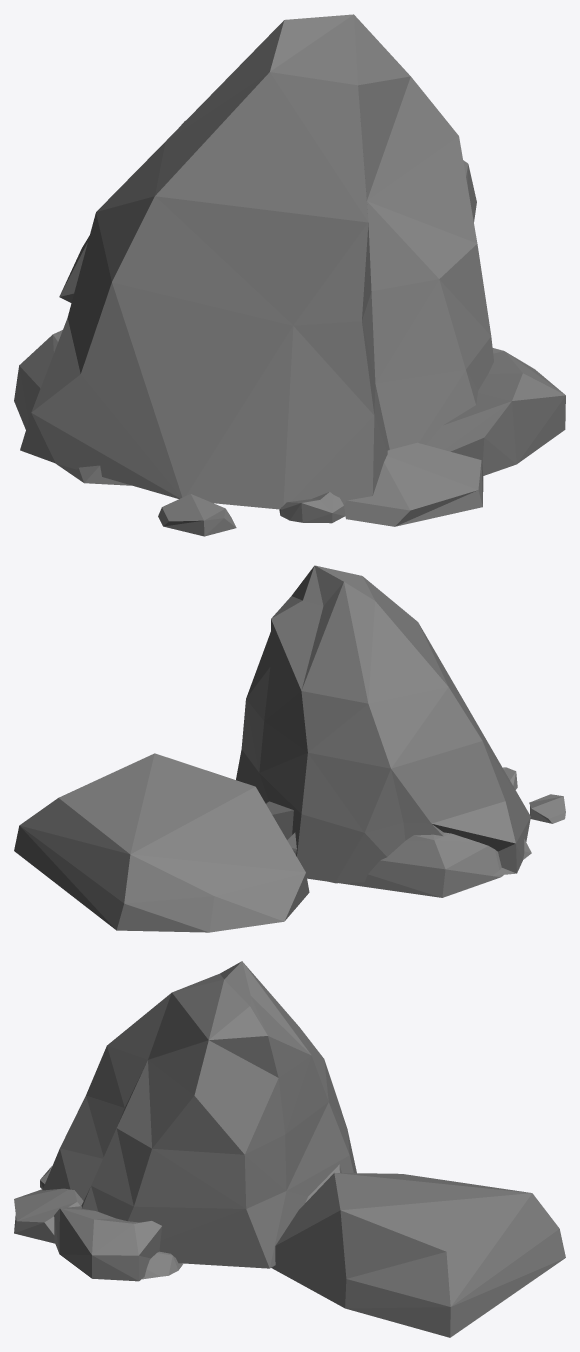
The model's file is stones.glb.
3 renders of one model, top to bottom at view 1: azimuth 30°, elevation 25°; view 2: azimuth 150°, elevation 25°; view 3: azimuth 270°, elevation 25°, orthographic. The views are drawn at different scales.
Parts seen in each view (by area): view 1: stone_2, stones_1, stone_3; view 2: stone_2, stones_1, stone_3; view 3: stone_2, stones_1, stone_3.
Part boxes in pixels (bbox=[...]): stone_2: bbox=[20, 14, 493, 509]; stones_1: bbox=[14, 120, 483, 536]; stone_3: bbox=[279, 348, 565, 523]; stone_2: bbox=[236, 565, 530, 883]; stones_1: bbox=[14, 753, 565, 932]; stone_3: bbox=[265, 767, 517, 839]; stone_2: bbox=[42, 961, 356, 1268]; stones_1: bbox=[14, 1172, 565, 1337]; stone_3: bbox=[40, 1164, 341, 1281].
Bounding box in the file's own units: 1.72 × 1.03 × 1.96.
Materials: 1 (1 with a texture image).
